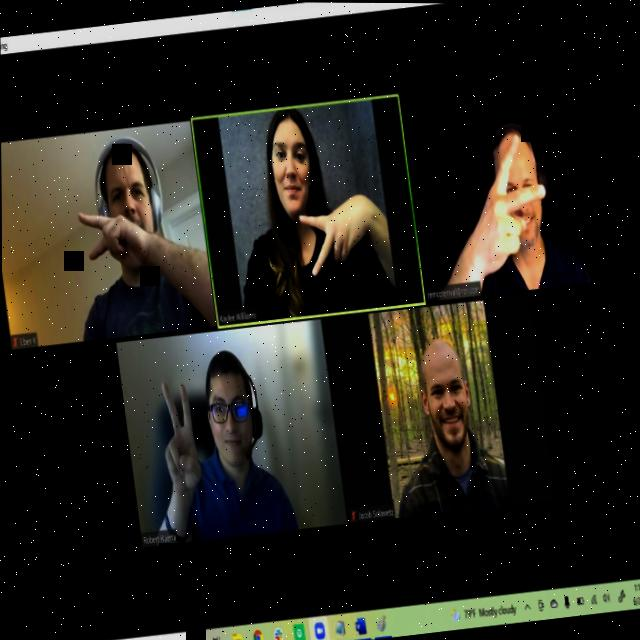Scissors: (456, 131, 555, 265), (145, 371, 213, 499), (84, 196, 162, 283), (305, 191, 382, 255)
